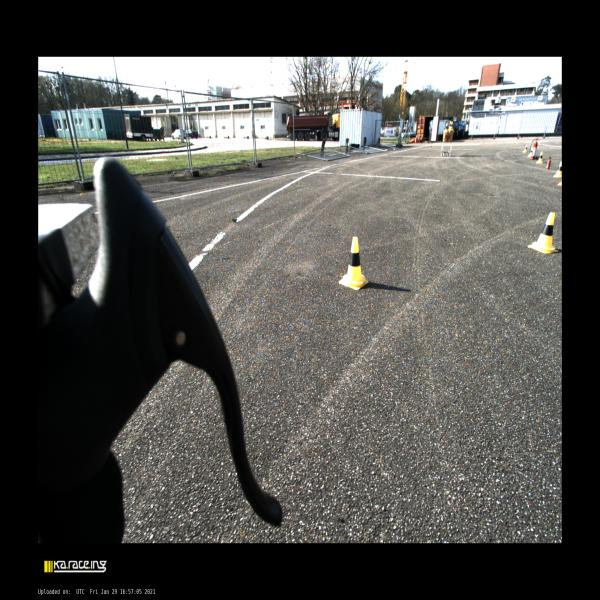yellow_cone: (340, 236, 368, 290), (528, 212, 558, 254), (552, 162, 562, 177), (536, 152, 543, 164), (528, 148, 532, 157), (523, 145, 527, 152), (444, 124, 448, 130), (450, 123, 453, 130), (449, 122, 451, 129)
